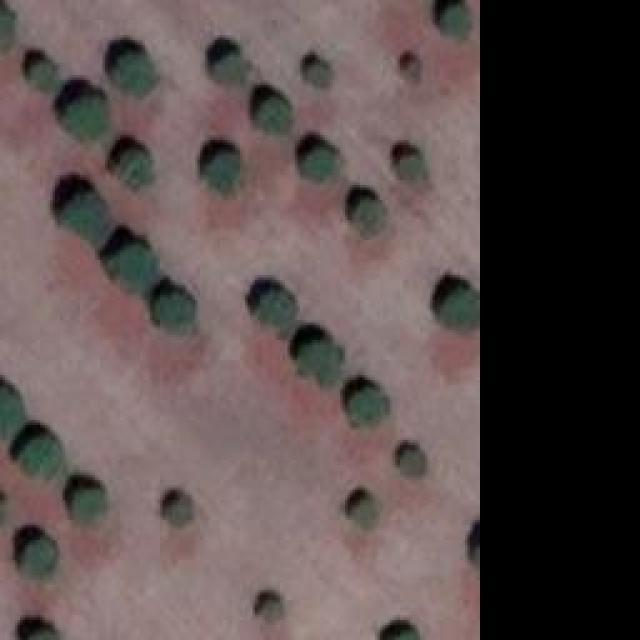Tree: (65, 197, 113, 245), (112, 245, 160, 290), (65, 98, 108, 138), (300, 340, 340, 383), (20, 437, 63, 475), (20, 535, 58, 575), (258, 292, 298, 330), (443, 288, 478, 331), (115, 55, 150, 93), (350, 388, 388, 421), (73, 488, 106, 523), (158, 293, 193, 326), (208, 152, 238, 190), (0, 385, 20, 440), (118, 150, 151, 183), (303, 148, 338, 178), (260, 98, 288, 133), (215, 55, 243, 83), (168, 495, 193, 525), (355, 200, 383, 225), (30, 60, 55, 88), (23, 622, 58, 640), (440, 8, 465, 33), (350, 500, 375, 525), (403, 55, 423, 85), (400, 453, 423, 476), (387, 627, 420, 640), (260, 600, 283, 618), (308, 65, 328, 83), (400, 157, 420, 175)
